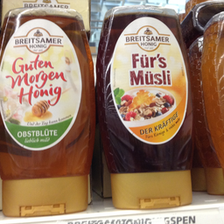honey: (98, 6, 202, 213), (1, 8, 95, 216)
